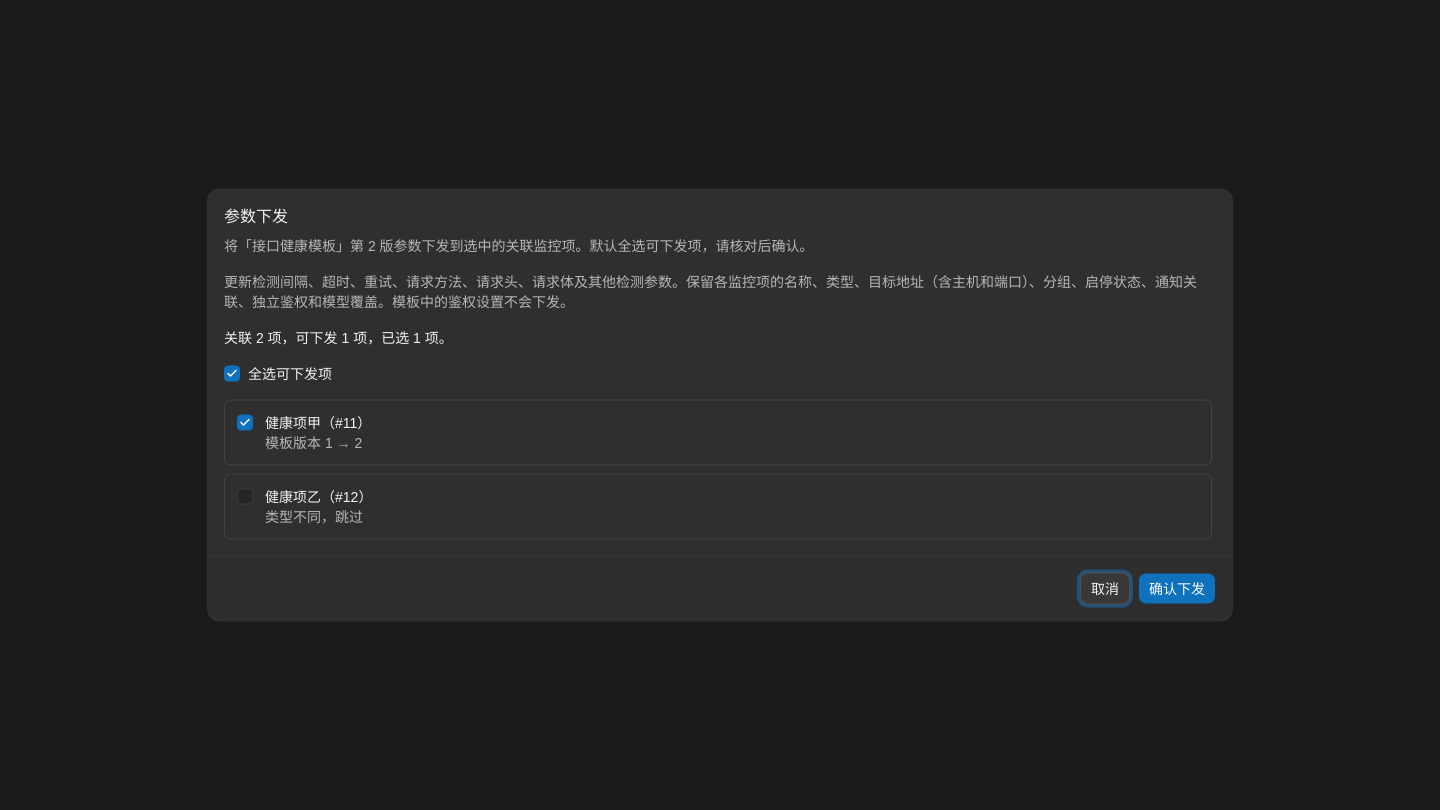
Test case: 任务部分失败时保留已完成和未执行结果并禁止直接重复提交
This screenshot has width=1440, height=810.
Expected: the list named "参数下发影响范围" is shown, x1=224 y1=400 x2=1212 y2=540
Click the button "确认下发": click(1177, 588) x1=1138 y1=572 x2=1216 y2=604
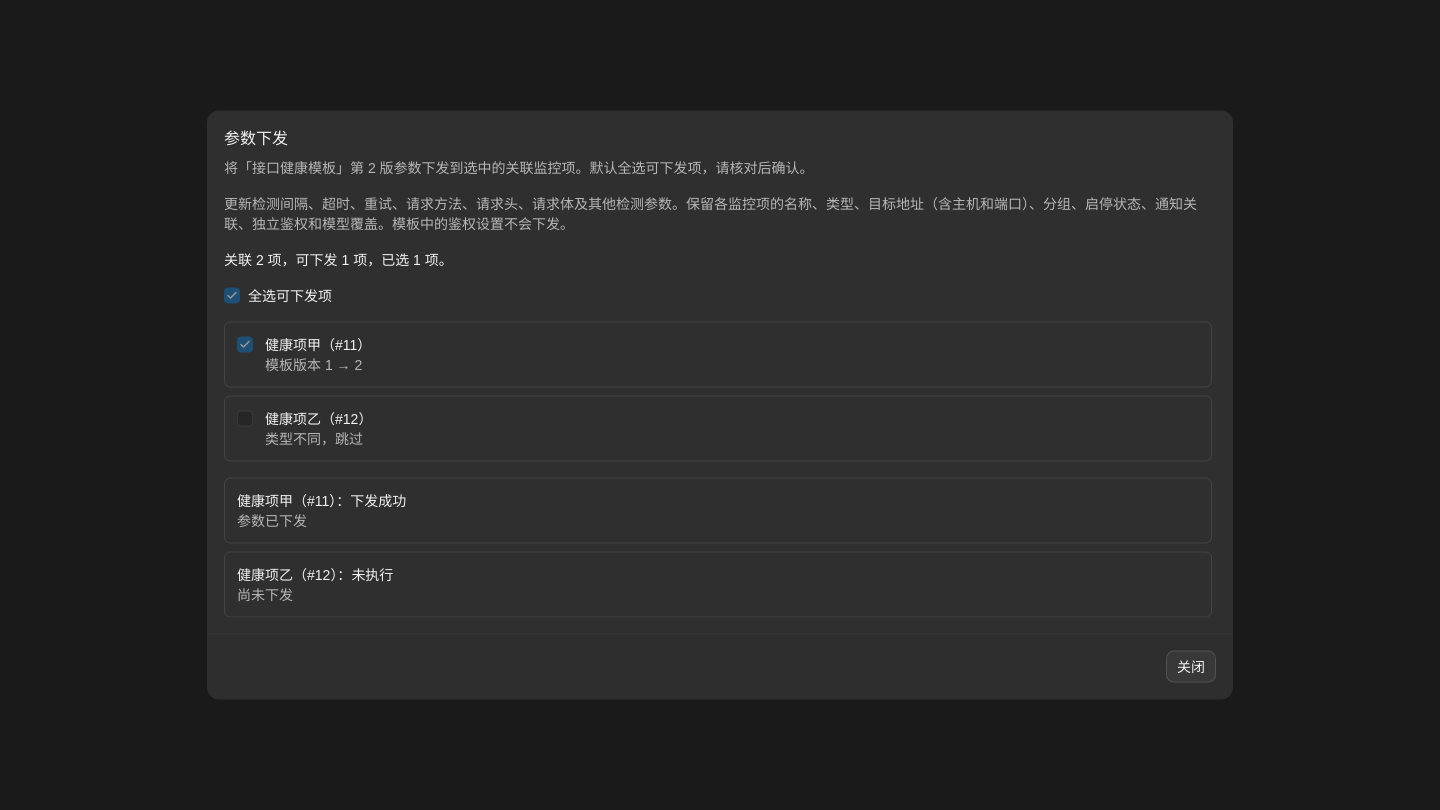
Expected: the list named "参数下发结果" shows "下发成功", x1=350 y1=492 x2=406 y2=508
Expected: the list named "参数下发结果" shows "未执行", x1=351 y1=566 x2=393 y2=582
Expected: the button "确认下发" is gone
